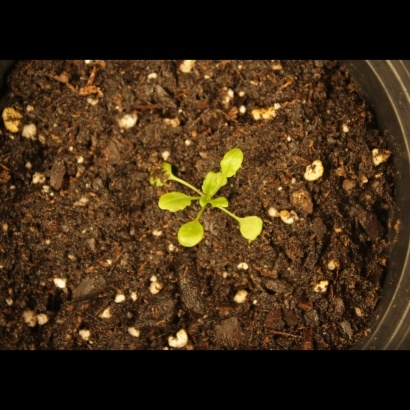leaf: (236, 212, 272, 246), (151, 190, 196, 217), (139, 159, 177, 187), (221, 138, 246, 180), (176, 218, 207, 250), (200, 170, 228, 200), (208, 194, 231, 217)
